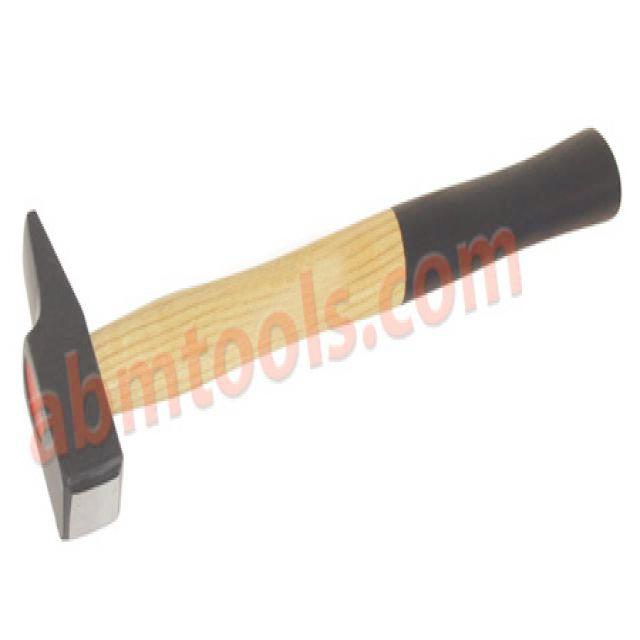hammer: (16, 120, 624, 550)
